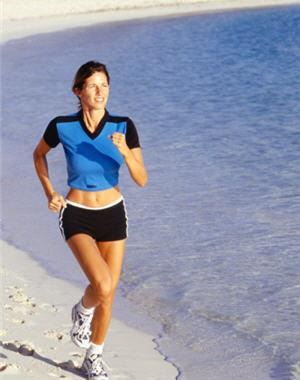person: (33, 60, 147, 378)
